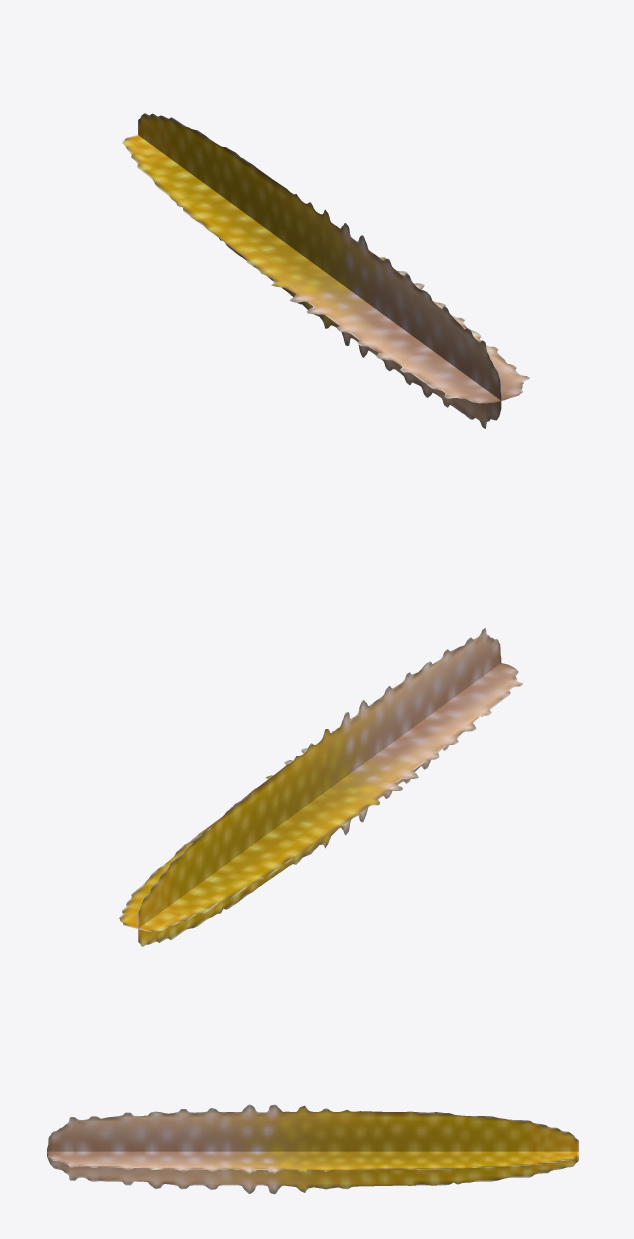
Rendered from SM_FleurSpline_08.fbx.
3 renders of one model, top to bottom at view 1: azimuth 30°, elevation 25°; view 2: azimuth 150°, elevation 25°; view 3: azimuth 270°, elevation 25°, orthographic. The views are drawn at different scales.
Parts seen in each view (by area): view 1: SM_FleurSpline_08; view 2: SM_FleurSpline_08; view 3: SM_FleurSpline_08.
Part boxes in pixels (<box>): SM_FleurSpline_08: <box>122,113,529,428</box>; SM_FleurSpline_08: <box>119,628,522,946</box>; SM_FleurSpline_08: <box>47,1104,578,1194</box>.
Size of the model in its own units: 3.73 by 3.73 by 13.92.
1 material, 1 textured.
